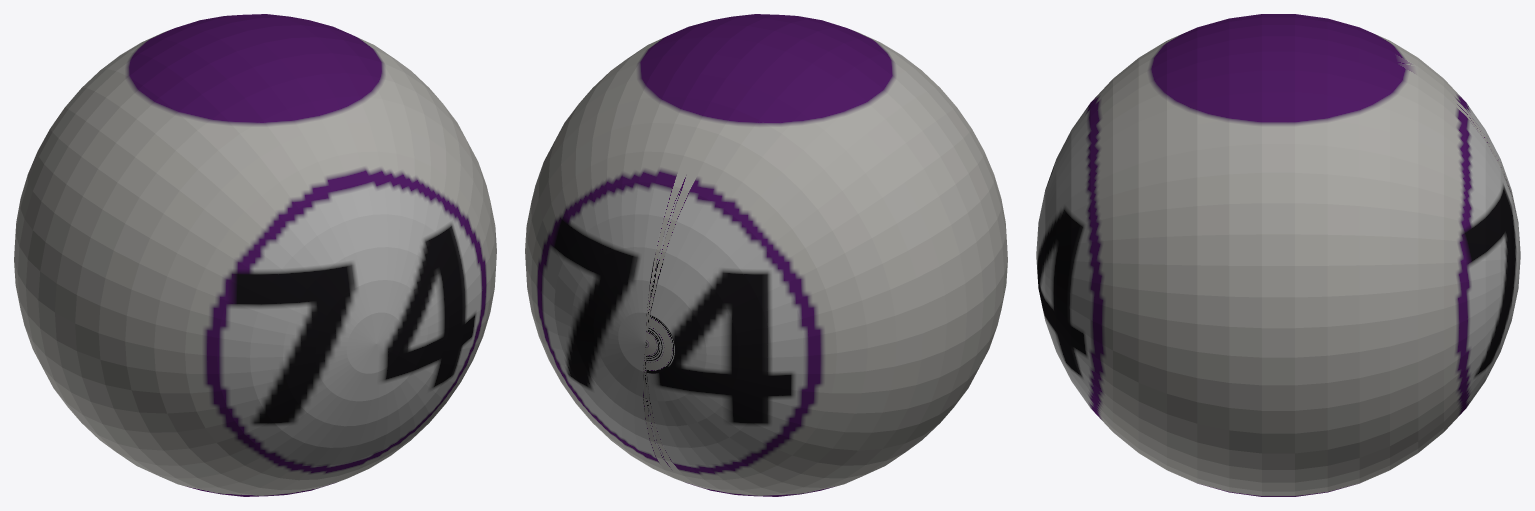
3 views of the same model, side by side, from view 1: azimuth 30°, elevation 25°; view 2: azimuth 150°, elevation 25°; view 3: azimuth 270°, elevation 25° (orthographic).
Visible parts, largest first — view 1: geometry_0; view 2: geometry_0; view 3: geometry_0.
Part boxes in pixels (<box>): geometry_0: <box>14,14,496,496</box>; geometry_0: <box>525,14,1007,496</box>; geometry_0: <box>1036,14,1520,496</box>.
Size of the model in its own units: 0.0599 by 0.0599 by 0.06.
1 material, 1 textured.
